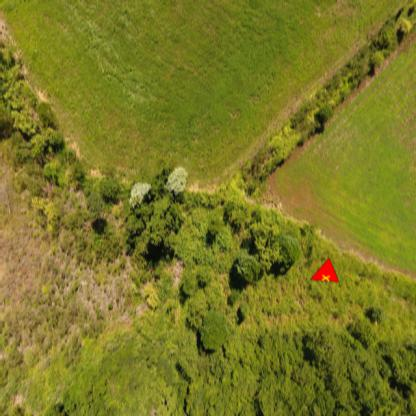X: (321, 274, 332, 282)
triangle: (309, 255, 340, 285)
